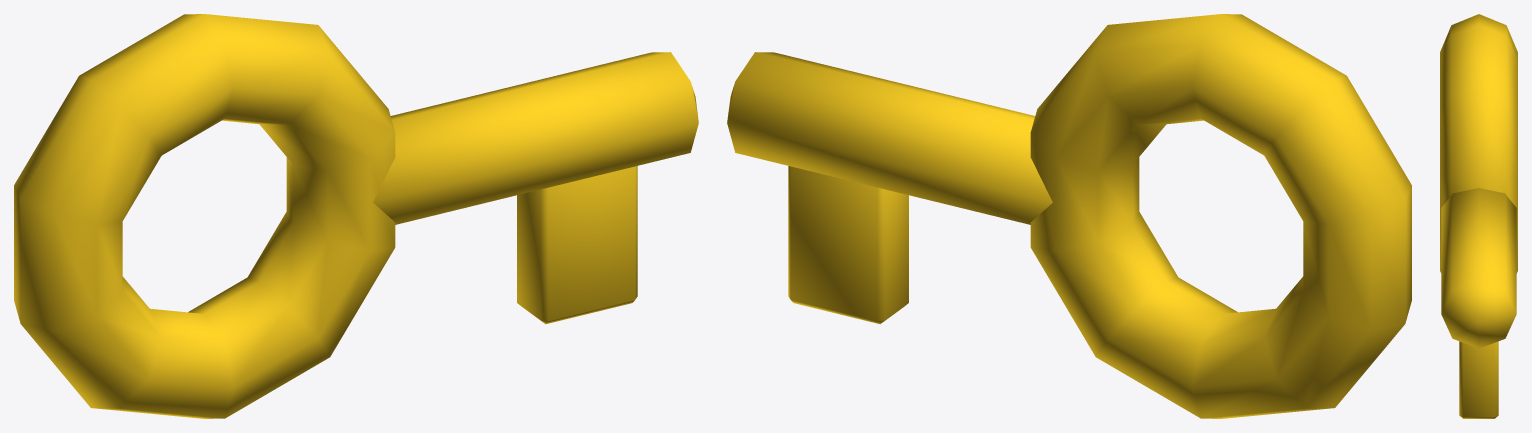
The model's file is Key.fbx.
3 views of the same model, side by side, from view 1: azimuth 30°, elevation 25°; view 2: azimuth 150°, elevation 25°; view 3: azimuth 270°, elevation 25° (orthographic). The views are drawn at different scales.
Visible parts, largest first — view 1: Key_0; view 2: Key_0; view 3: Key_0.
Part boxes in pixels (x1,y1,x2,y2): Key_0: (14, 14, 698, 418); Key_0: (727, 14, 1411, 418); Key_0: (1440, 14, 1517, 418).
Bounding box in the file's own units: 51.39 × 29.46 × 7.64.
